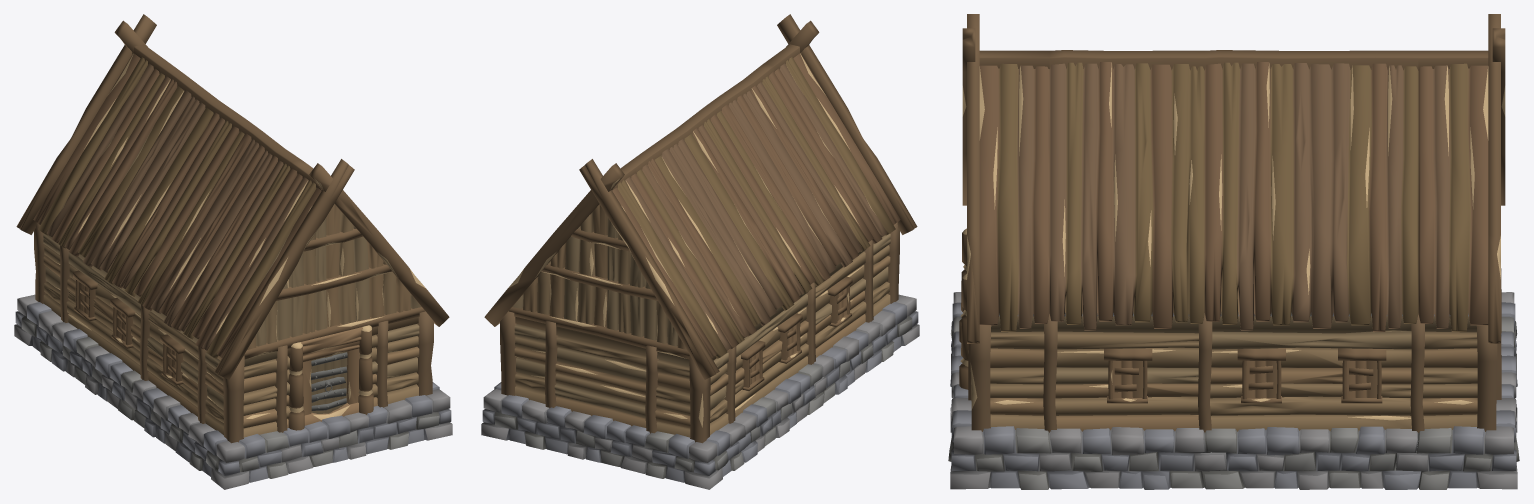
Rendered from rpgpp_lt_building_01 -col.glb.
3 renders of one model, left to right at view 1: azimuth 30°, elevation 25°; view 2: azimuth 150°, elevation 25°; view 3: azimuth 270°, elevation 25°, orthographic. The views are drawn at different scales.
Parts seen in each view (by area): view 1: rpgpp_lt_building_01 -col; view 2: rpgpp_lt_building_01 -col; view 3: rpgpp_lt_building_01 -col.
Boxes of the visible parts, x1,y1,x2,y2 form: rpgpp_lt_building_01 -col: [14, 14, 452, 489]; rpgpp_lt_building_01 -col: [481, 14, 919, 489]; rpgpp_lt_building_01 -col: [948, 14, 1519, 489].
Size of the model in its own units: 8.4 by 10.18 by 13.36.
1 material, 1 textured.
